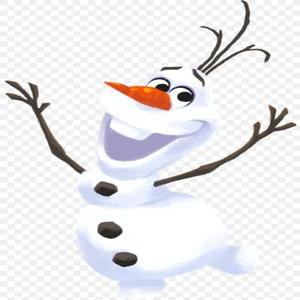olaf: (20, 25, 278, 284)
